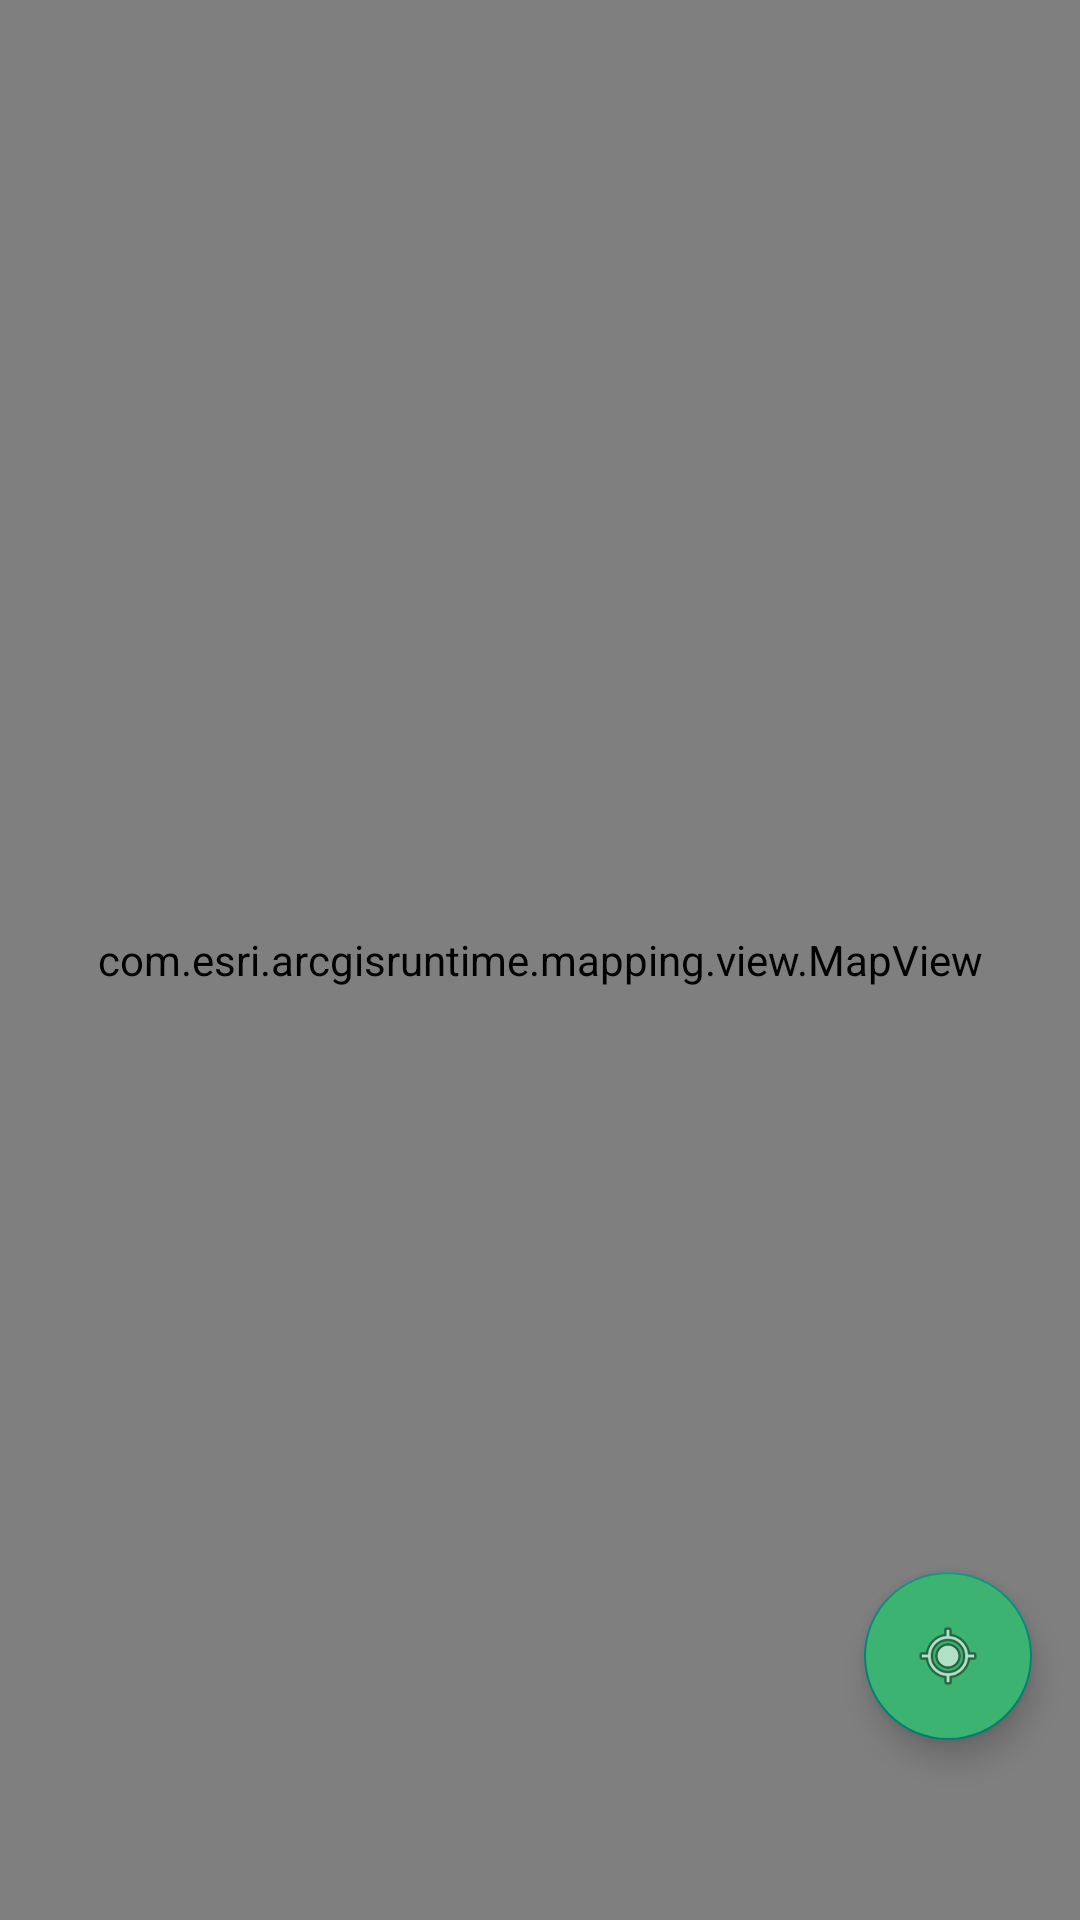

Locate icon controls on the screen. Image size 1080*1920, boxes as bbox=[x1, y1, x2, y2].
Turn GPS on/off: bbox=[864, 1572, 1032, 1740]
